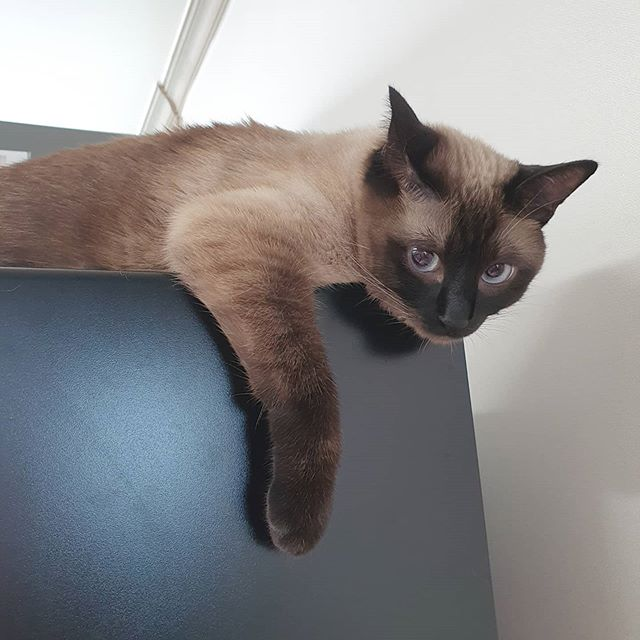cat: (356, 83, 597, 345)
